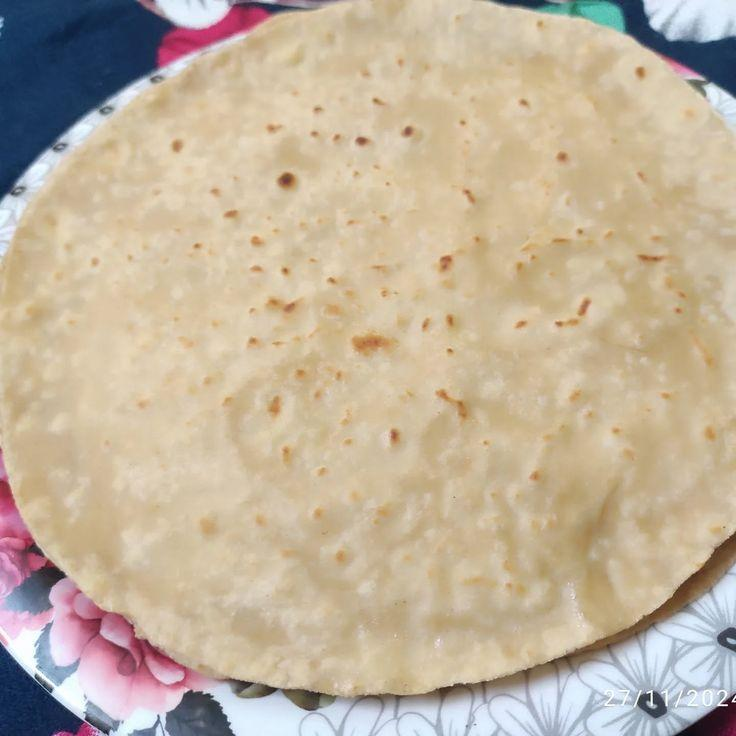roti phulka: (1, 0, 736, 687)
